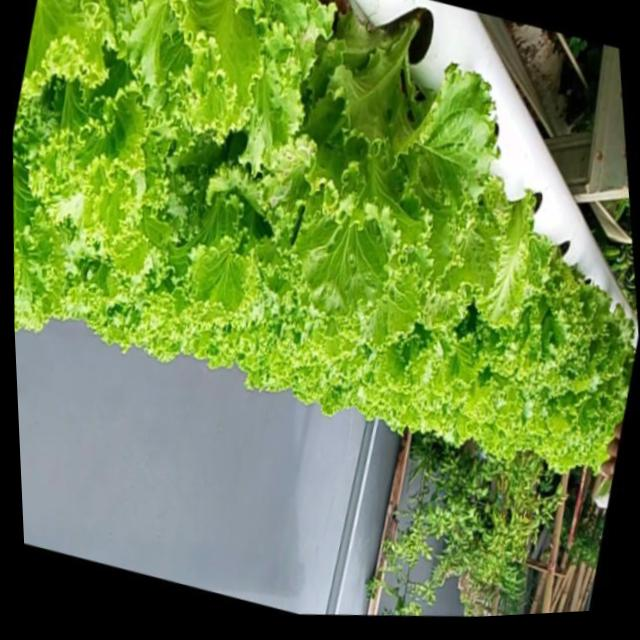Mature: (12, 0, 638, 470), (271, 0, 491, 327), (487, 216, 604, 382)
